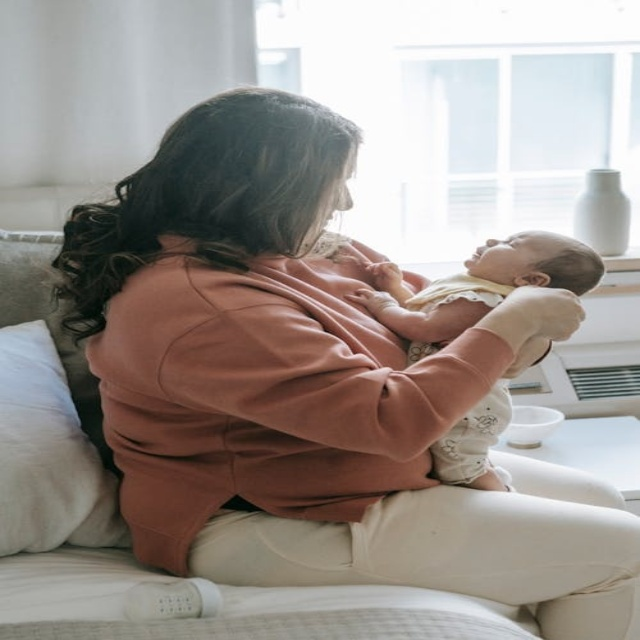Guantes: (463, 284, 589, 362)
Sin_gafas: (499, 231, 544, 261)
Sin_guantes: (335, 283, 401, 315), (362, 254, 406, 286)
Sin_mascara: (467, 245, 492, 266)
